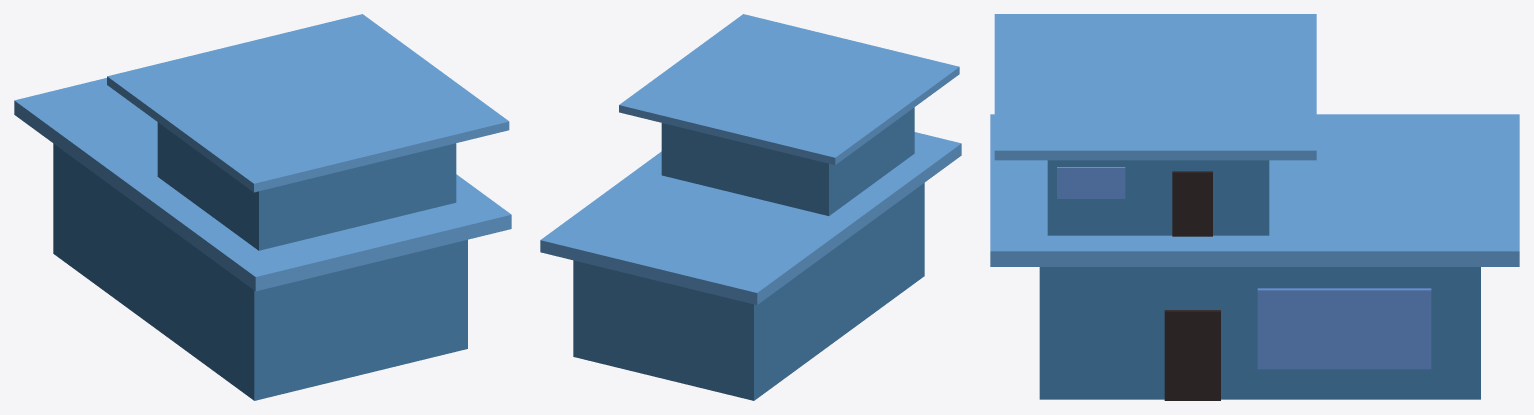
Rendered from House_Dealer.fbx.
3 views of the same model, side by side, from view 1: azimuth 30°, elevation 25°; view 2: azimuth 150°, elevation 25°; view 3: azimuth 270°, elevation 25° (orthographic). The views are drawn at different scales.
Parts seen in each view (by area): view 1: Cube, Techo_2, Techo_1, Cube.001; view 2: Cube, Techo_1, Techo_2, Cube.001; view 3: Techo_1, Techo_2, Cube, Window_1, Cube.001, Door_1, Door_2, Window_2.
Part boxes in pixels (x1,y1,x2,y2): Cube: (53,143,467,400); Techo_2: (107,14,509,192); Techo_1: (14,78,511,291); Cube.001: (157,122,456,250); Cube: (573,183,924,400); Techo_1: (540,132,961,304); Techo_2: (619,14,959,164); Cube.001: (661,107,914,215); Techo_1: (990,114,1519,266); Techo_2: (994,14,1316,160); Cube: (1039,267,1480,399); Window_1: (1257,288,1431,369); Cube.001: (1047,160,1269,235); Door_1: (1164,310,1220,400); Door_2: (1172,171,1212,236); Window_2: (1057,167,1125,198).
Bounding box in the file's own units: 2068 × 1832 × 3378.
